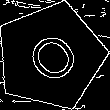O_SE: (17, 23, 85, 90)
